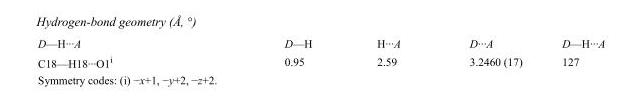table: (37, 36, 604, 69)
table column: (37, 36, 197, 69), (197, 36, 343, 69), (434, 36, 541, 69), (343, 36, 434, 69), (541, 36, 604, 69)
table row: (37, 51, 604, 69), (37, 36, 604, 51)
